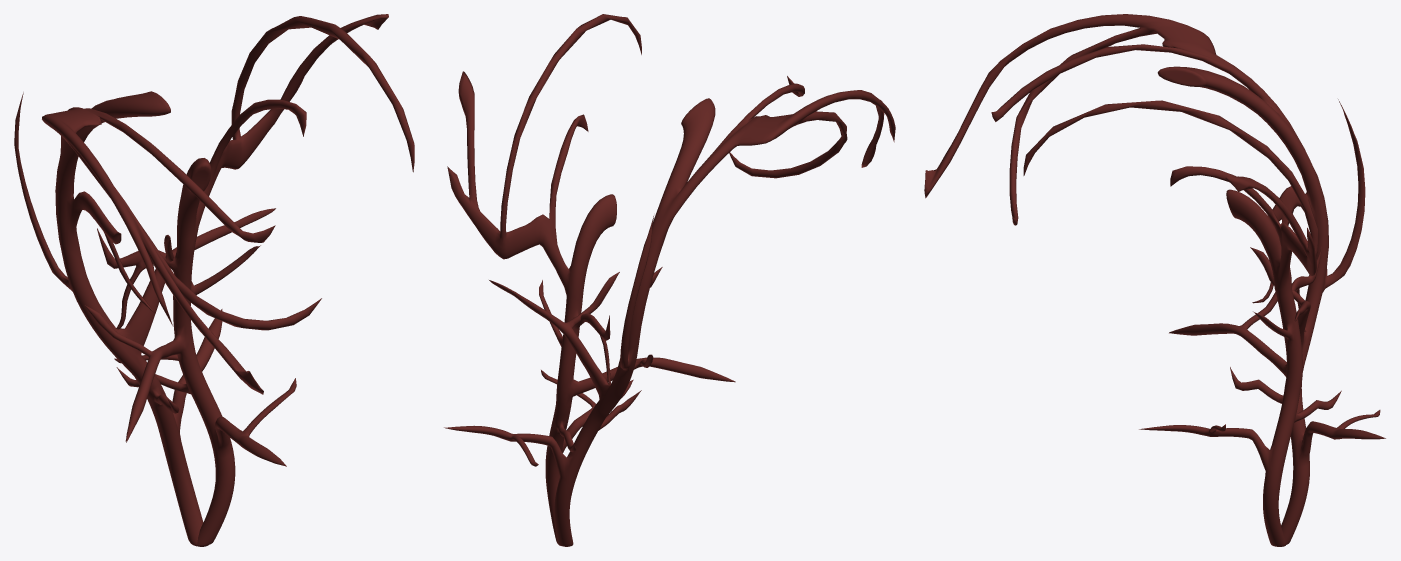
The model's file is Plant_01_moontree_state02.gltf.
3 renders of one model, left to right at view 1: azimuth 30°, elevation 25°; view 2: azimuth 150°, elevation 25°; view 3: azimuth 270°, elevation 25°, orthographic. The views are drawn at different scales.
Visible parts, largest first — view 1: Retopo_Cylinder.001; view 2: Retopo_Cylinder.001; view 3: Retopo_Cylinder.001.
Boxes of the visible parts, left/top/right/bottom form: Retopo_Cylinder.001: left=14, top=14, right=414, bottom=546; Retopo_Cylinder.001: left=444, top=14, right=895, bottom=546; Retopo_Cylinder.001: left=924, top=14, right=1385, bottom=546.
Bounding box in the file's own units: 9.27 × 12.93 × 11.57.
